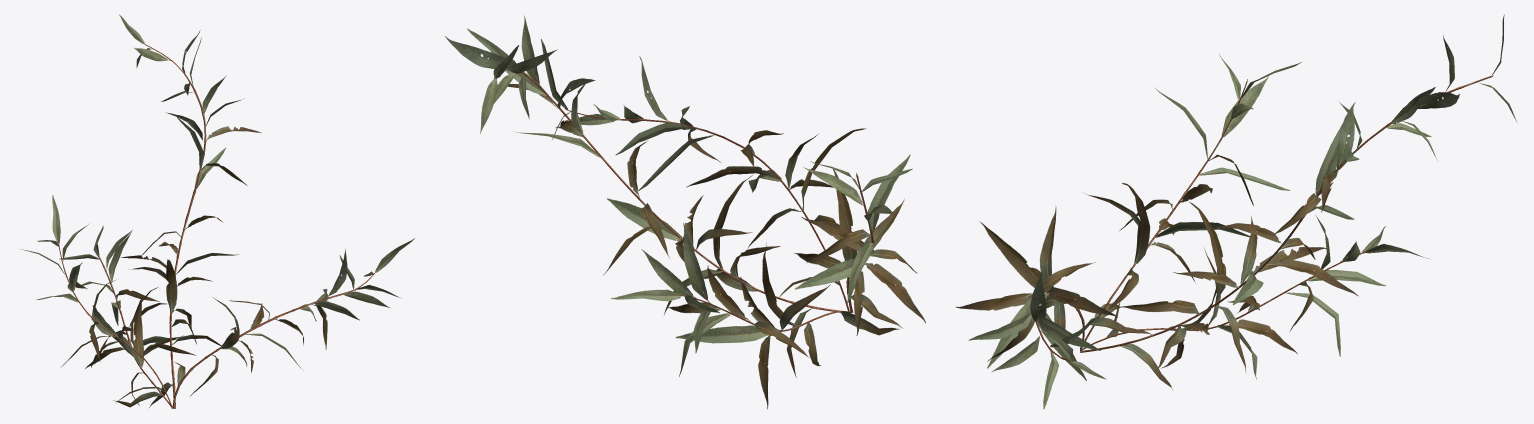
Rendered from shrub_02_b_LOD1.glb.
The picture shows the model from 3 angles, left to right: view 1: azimuth 30°, elevation 25°; view 2: azimuth 150°, elevation 25°; view 3: azimuth 270°, elevation 25°; orthographic projection. The views are drawn at different scales.
Parts seen in each view (by area): view 1: shrub_02_b_LOD1.001; view 2: shrub_02_b_LOD1.001; view 3: shrub_02_b_LOD1.001.
Part boxes in pixels (x1,y1,x2,y2): shrub_02_b_LOD1.001: (20, 14, 414, 408); shrub_02_b_LOD1.001: (445, 15, 925, 409); shrub_02_b_LOD1.001: (956, 14, 1516, 409).
Bounding box in the file's own units: 1.11 × 0.9643 × 1.13.
Materials: 1 (1 with a texture image).
